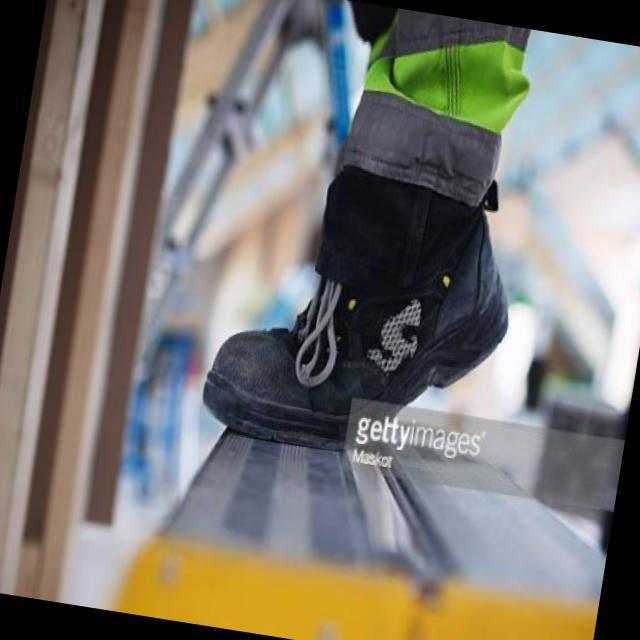boots: (196, 99, 541, 480)
